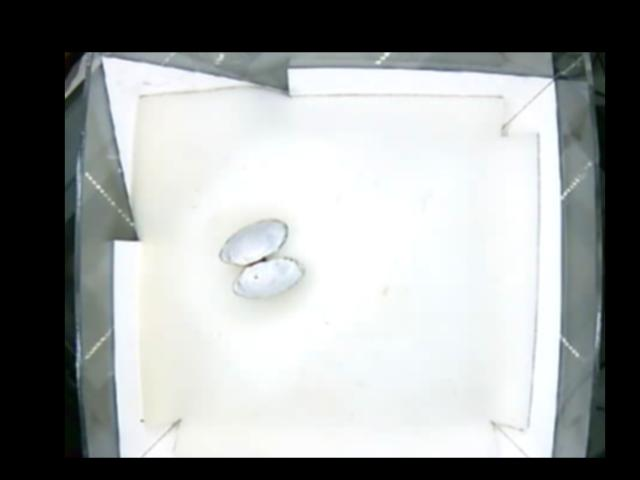Shell: (218, 218, 302, 299)
